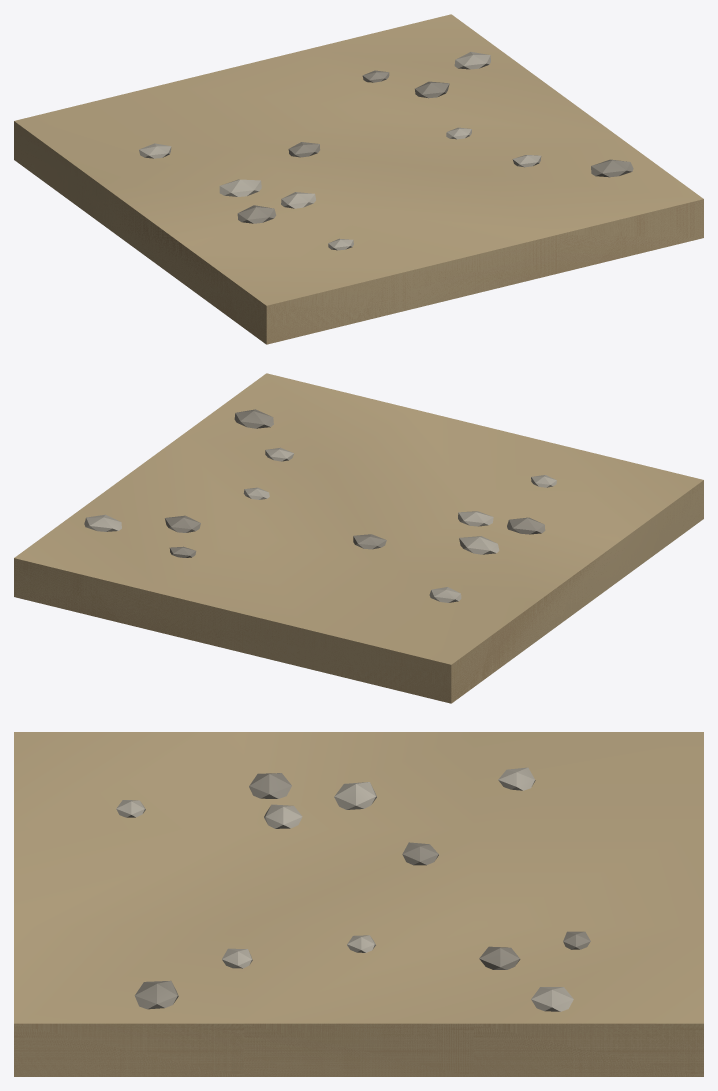
The model's file is terrain.path.glb.
The picture shows the model from 3 angles, top to bottom: view 1: azimuth 30°, elevation 25°; view 2: azimuth 150°, elevation 25°; view 3: azimuth 270°, elevation 25°; orthographic projection. The views are drawn at different scales.
Parts seen in each view (by area): view 1: terrain.path.v2.mesh, terrain.path.v0.mesh, terrain.path.v1.mesh; view 2: terrain.path.v2.mesh, terrain.path.v0.mesh, terrain.path.v1.mesh; view 3: terrain.path.v2.mesh, terrain.path.v1.mesh, terrain.path.v0.mesh.
Part boxes in pixels (bbox=[...]): terrain.path.v2.mesh: bbox=[14, 14, 703, 340]; terrain.path.v0.mesh: bbox=[14, 121, 703, 344]; terrain.path.v1.mesh: bbox=[14, 122, 703, 344]; terrain.path.v2.mesh: bbox=[14, 373, 703, 702]; terrain.path.v0.mesh: bbox=[14, 409, 703, 703]; terrain.path.v1.mesh: bbox=[14, 447, 703, 703]; terrain.path.v2.mesh: bbox=[14, 732, 703, 1076]; terrain.path.v1.mesh: bbox=[14, 782, 703, 1076]; terrain.path.v0.mesh: bbox=[14, 842, 703, 1076].
Bounding box in the file's own units: 1 × 0.1078 × 1.
